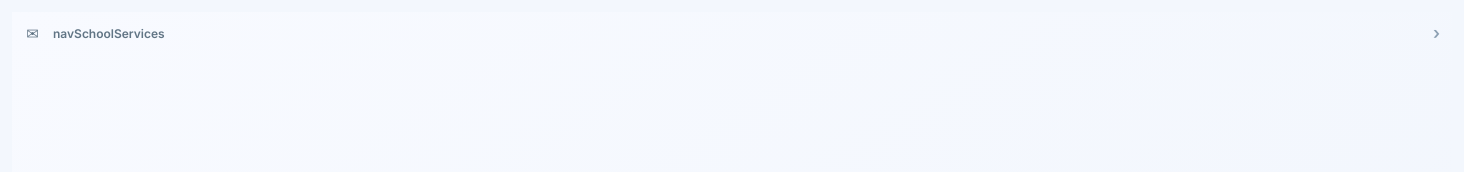
Test: role navigation definitions › preserves registrar routes and marks only future school features as disabled
This screenshot has width=1464, height=172.
Click the button "✉ navSchoolServices ›". click: (109, 33)
box: left=12, top=12, right=1452, bottom=54
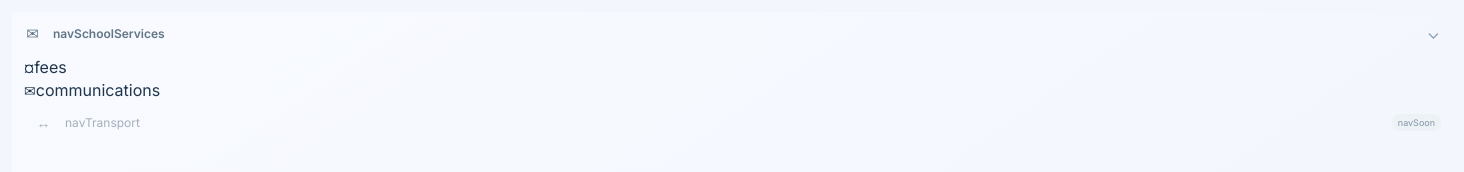
Check: the text "navSoon" is shown once, box left=1392, top=114, right=1441, bottom=131
